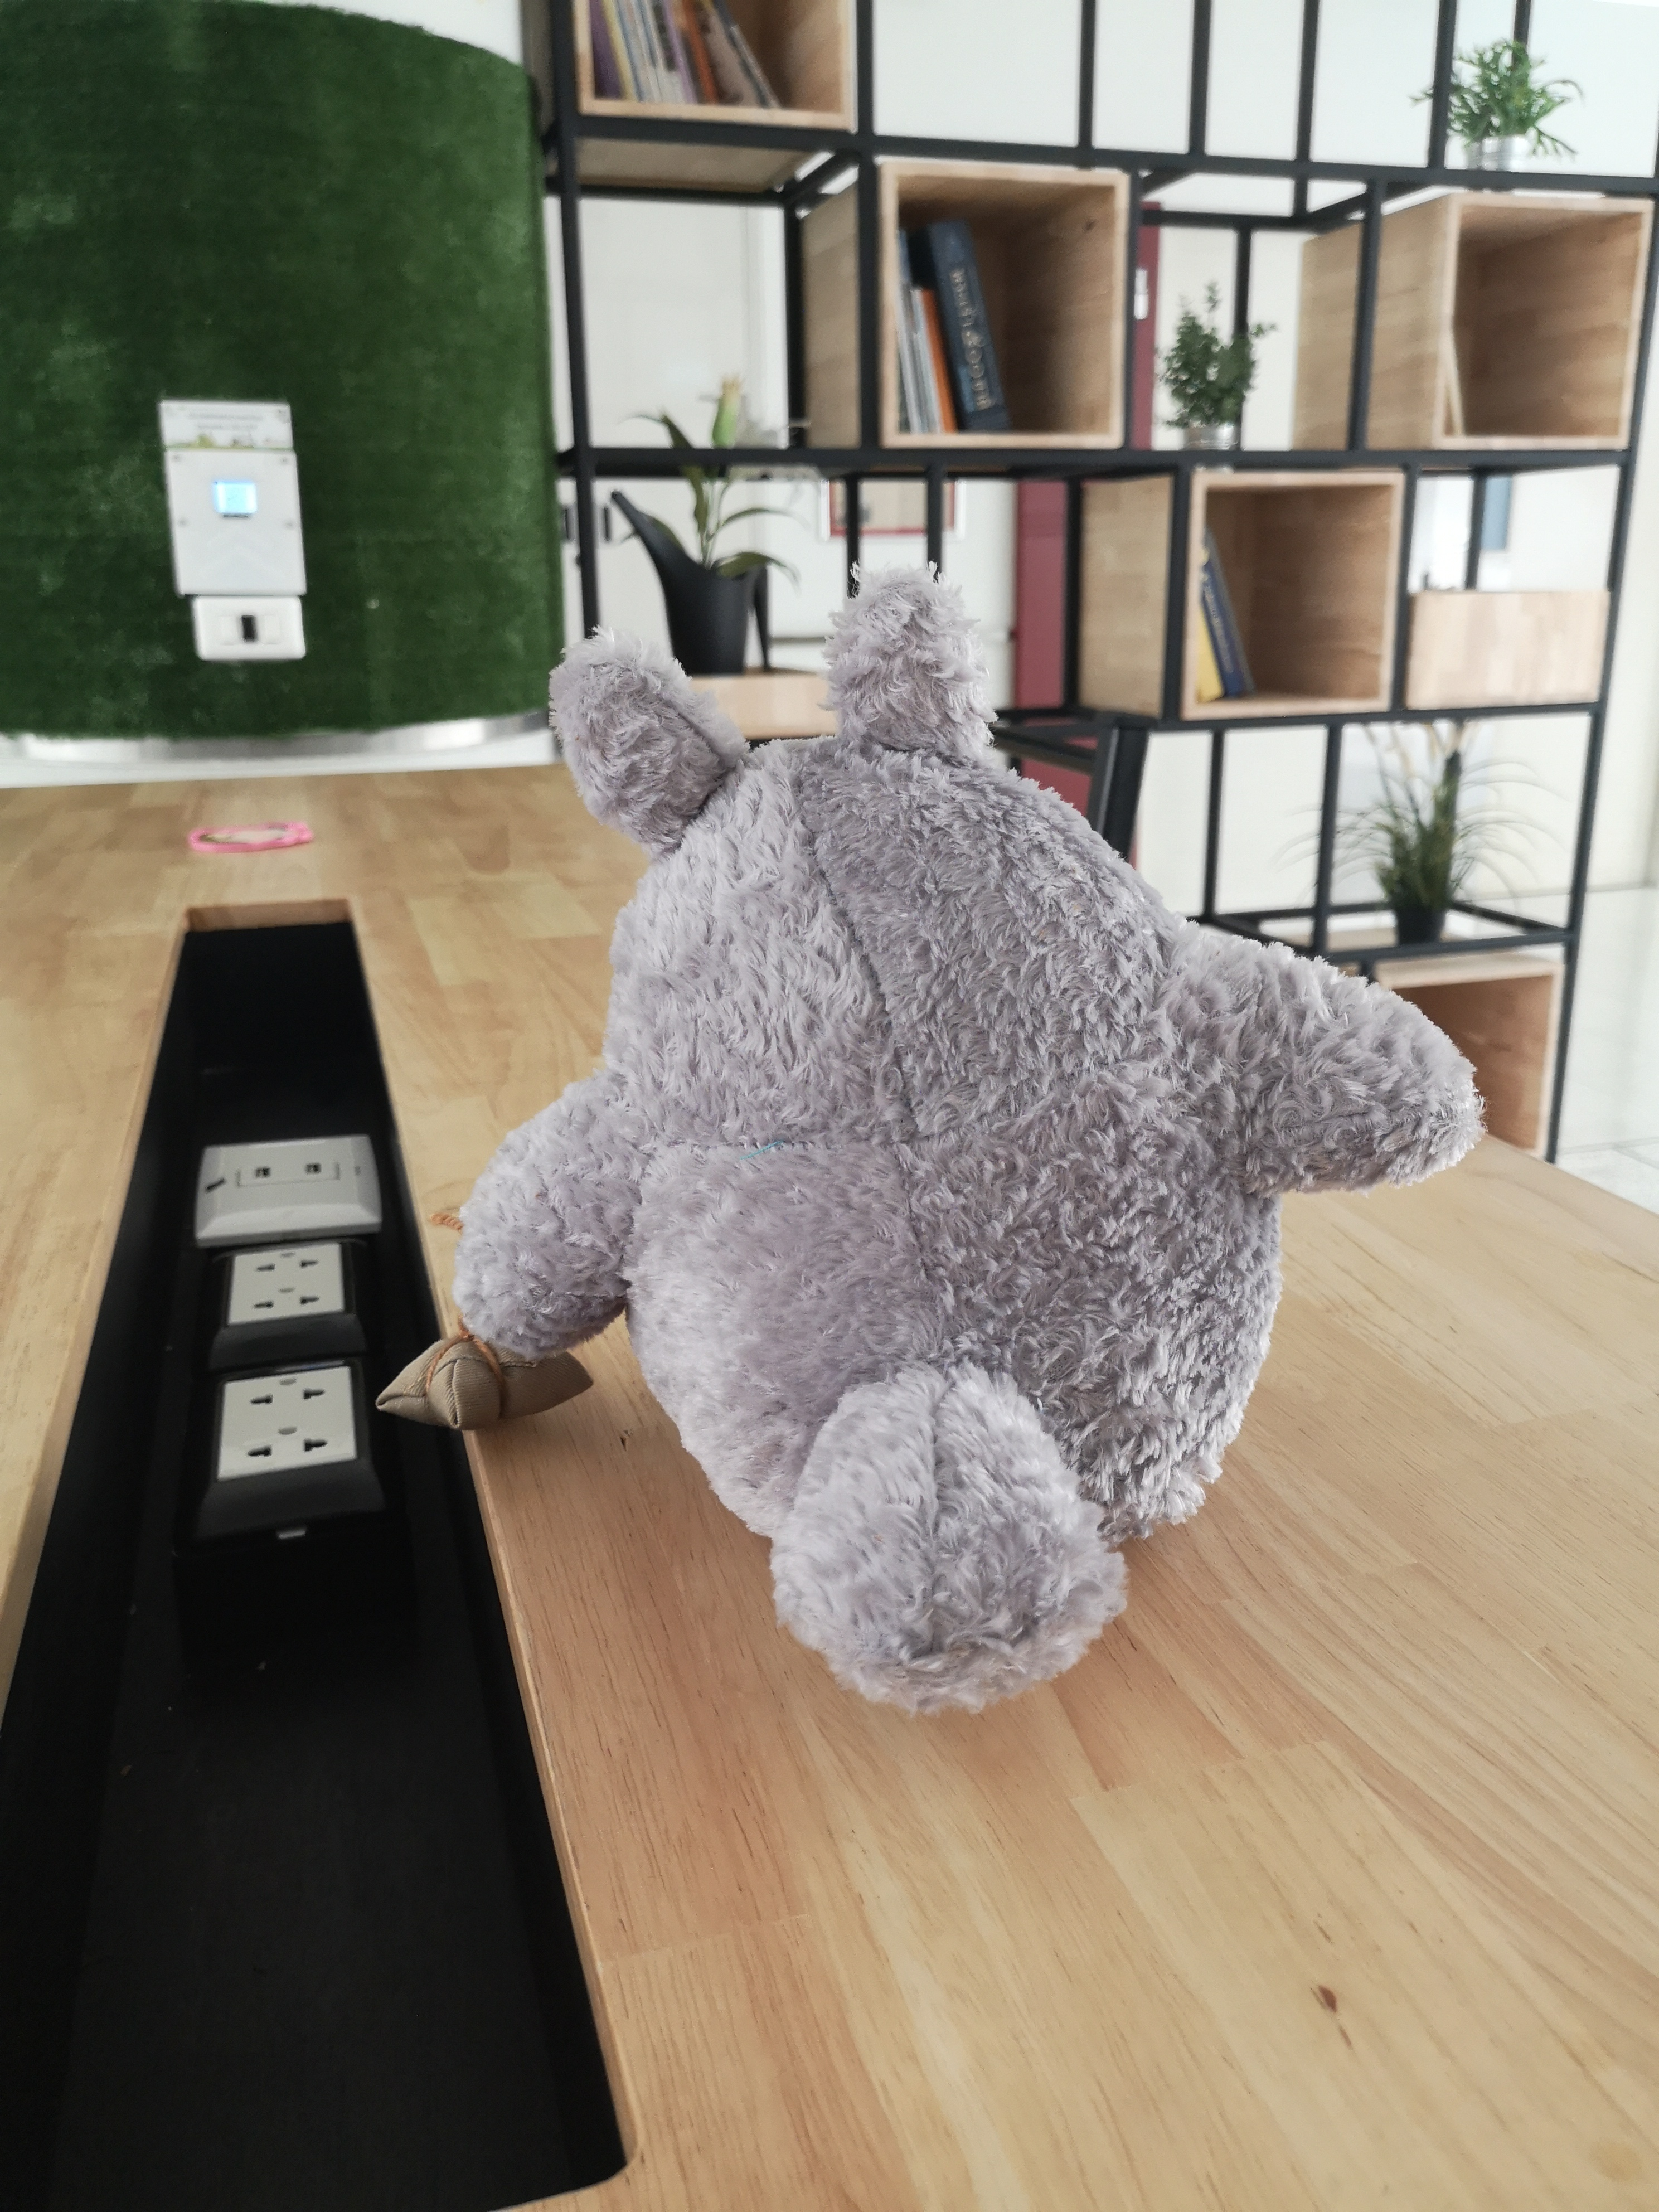totoro: (366, 545, 1493, 1735)
